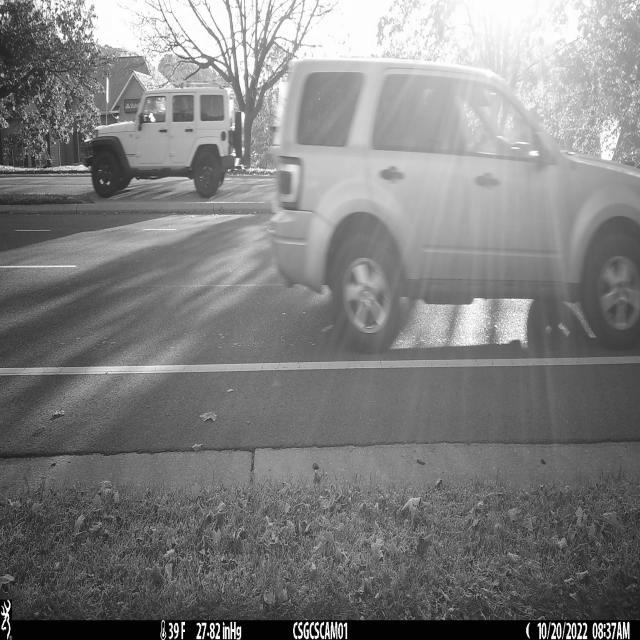SUV: (268, 60, 640, 355), (86, 88, 244, 199)
